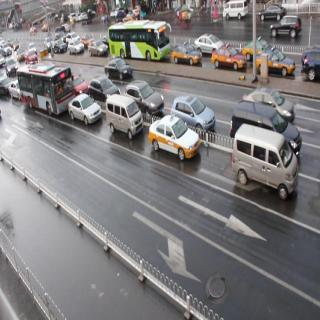BigCar: (20, 54, 68, 124), (109, 20, 170, 65)
Car: (232, 128, 302, 200), (230, 100, 310, 151), (144, 117, 204, 162), (98, 91, 148, 140), (174, 94, 222, 135), (69, 90, 97, 129)
